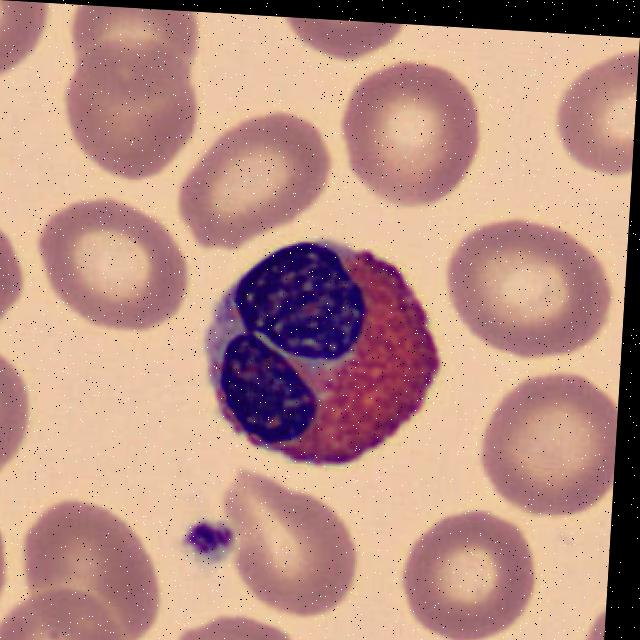eosinophil: (194, 230, 441, 489)
platelets: (176, 520, 235, 571)
rbc: (439, 216, 616, 373), (167, 100, 334, 255), (333, 53, 488, 214), (212, 467, 382, 613), (22, 476, 168, 640), (475, 365, 620, 525), (31, 190, 185, 340), (56, 33, 200, 183), (392, 501, 543, 640), (63, 4, 208, 104), (548, 33, 640, 185), (0, 582, 129, 640), (280, 17, 413, 72), (0, 0, 64, 99), (158, 604, 322, 640), (0, 348, 39, 482), (0, 213, 28, 335), (578, 588, 607, 640), (0, 494, 10, 635)
